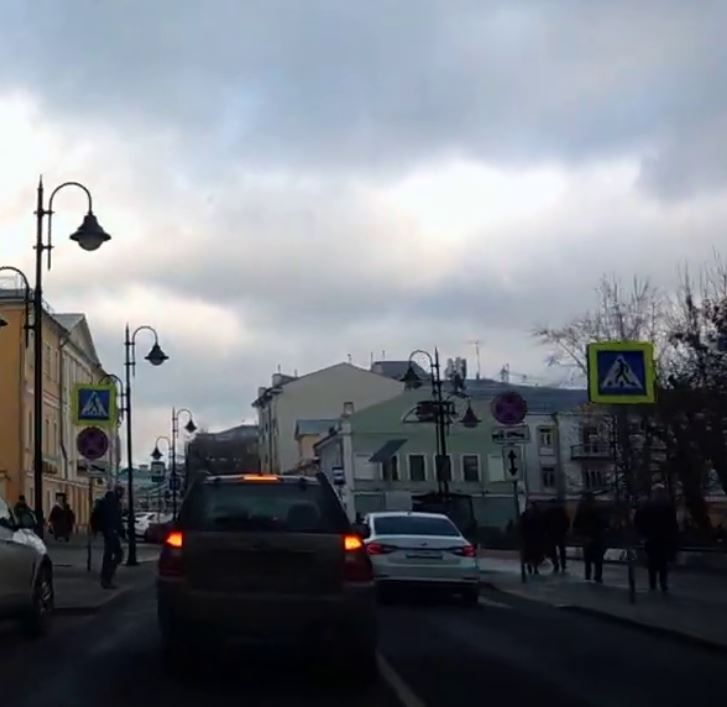Yaya Gecidi: (593, 346, 647, 397), (76, 389, 112, 423)
